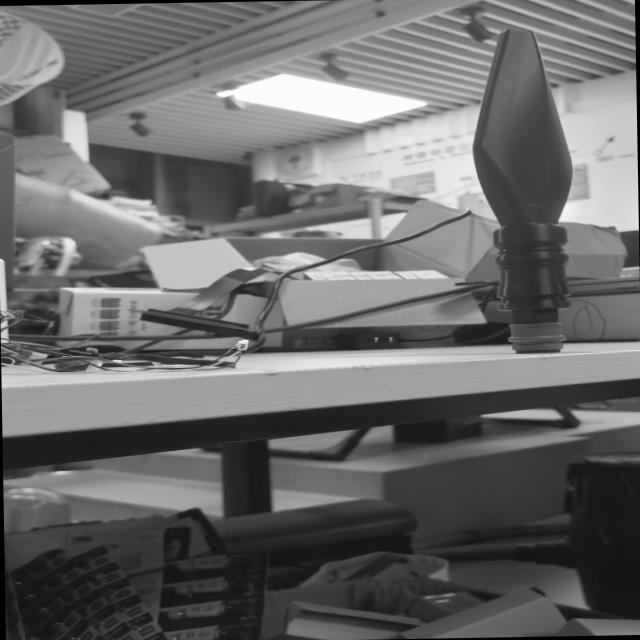base: (506, 316, 580, 359)
